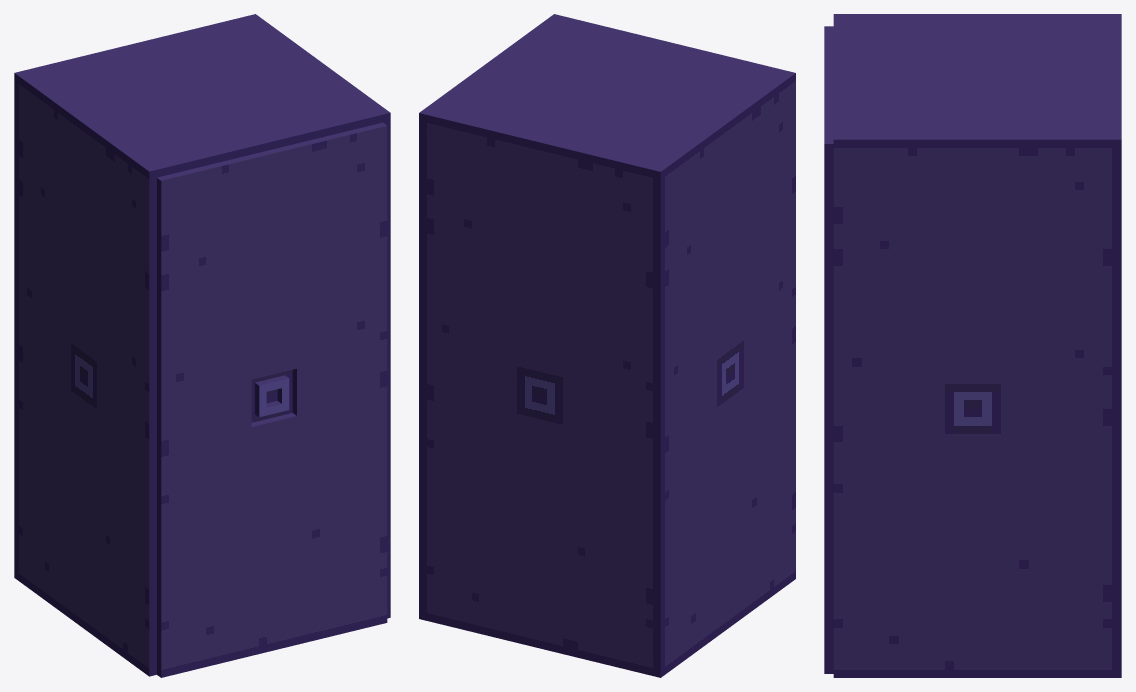
Rendered from 1_bit_doorao.fezao.glb.
The picture shows the model from 3 angles, left to right: view 1: azimuth 30°, elevation 25°; view 2: azimuth 150°, elevation 25°; view 3: azimuth 270°, elevation 25°; orthographic projection. The views are drawn at different scales.
Visible parts, largest first — view 1: 1_BIT_DOORAO; view 2: 1_BIT_DOORAO; view 3: 1_BIT_DOORAO.
Boxes of the visible parts, left/top/right/bottom form: 1_BIT_DOORAO: left=14, top=14, right=390, bottom=677; 1_BIT_DOORAO: left=419, top=14, right=795, bottom=677; 1_BIT_DOORAO: left=824, top=14, right=1121, bottom=677.
Size of the model in its own units: 2 by 4 by 2.
Materials: 1 (1 with a texture image).
